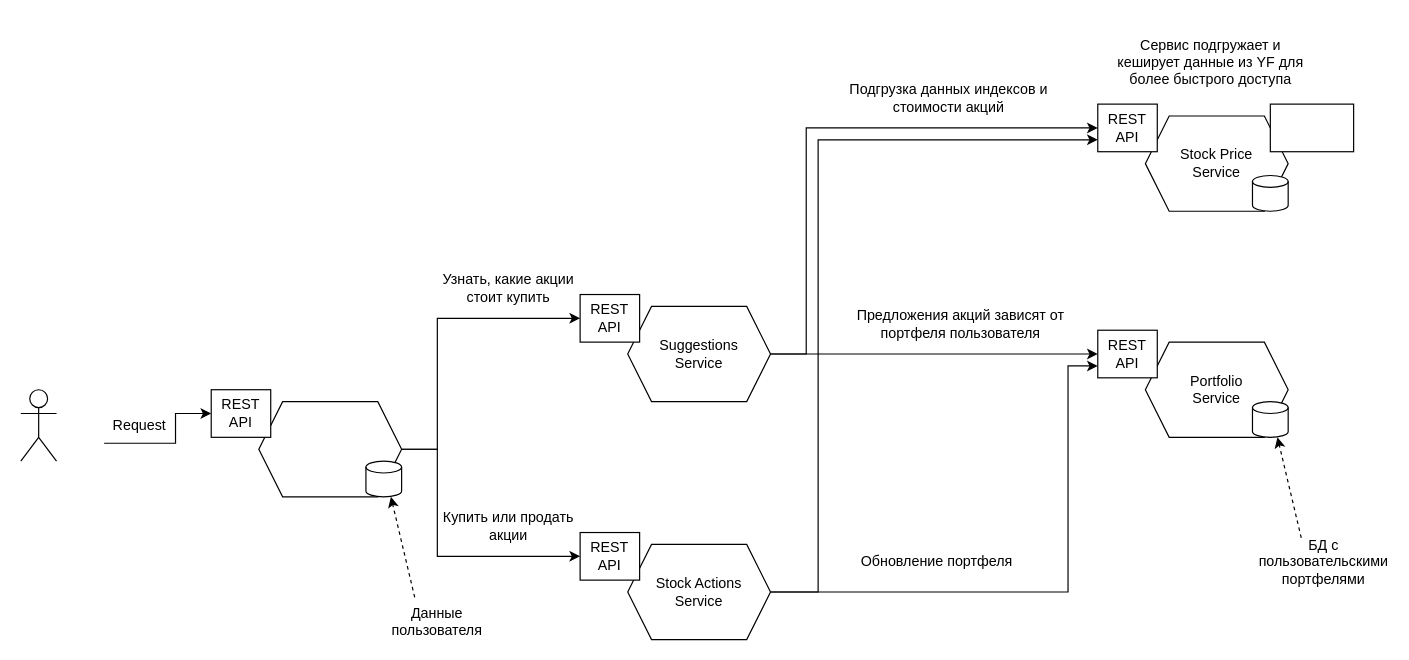
The diagram is 1409 pixels wide and 660 high, and some of its shapes have lost their labels. Each missing label, with the box of its shape:
Telegram Bot Service: (258, 400, 402, 497)
User: (20, 389, 57, 461)
YFinance: (1269, 103, 1354, 152)
